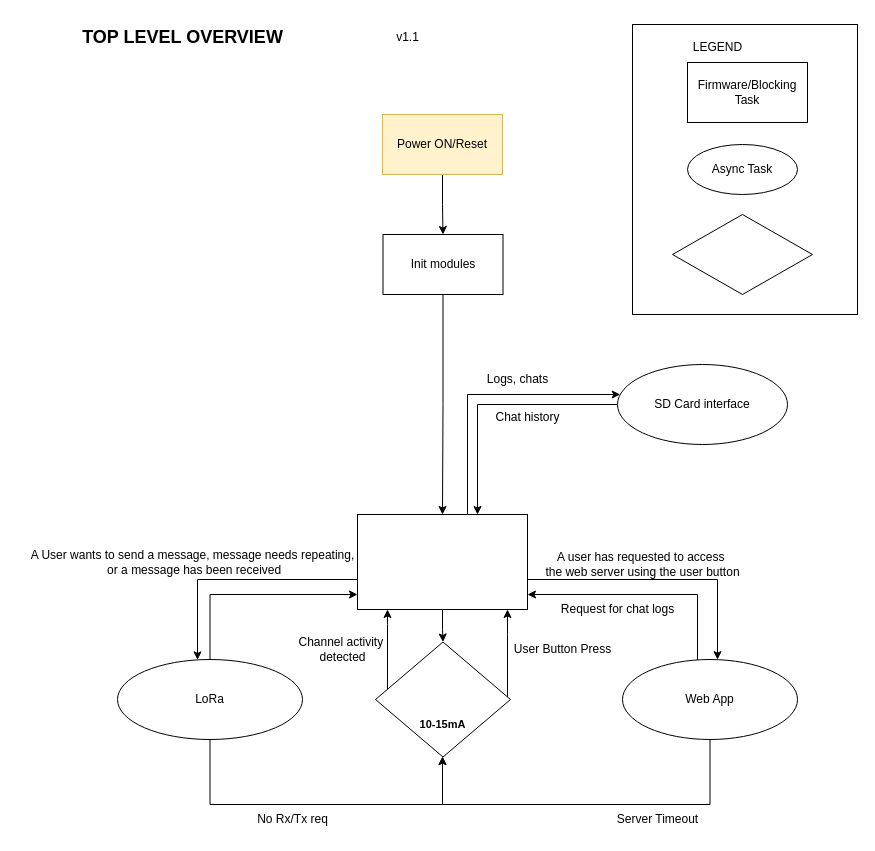
Image size: 875x851. Some labels were removed from this diagram. Each missing label, with the box of its shape:
AVAlink Firmware LoRa TX + Wifi + SD r/w = 653mA: (356, 514, 528, 610)
Blocks Until Waker: (672, 214, 812, 294)
MPU Light Sleep, LoRa RX STDBY: (374, 641, 510, 757)
